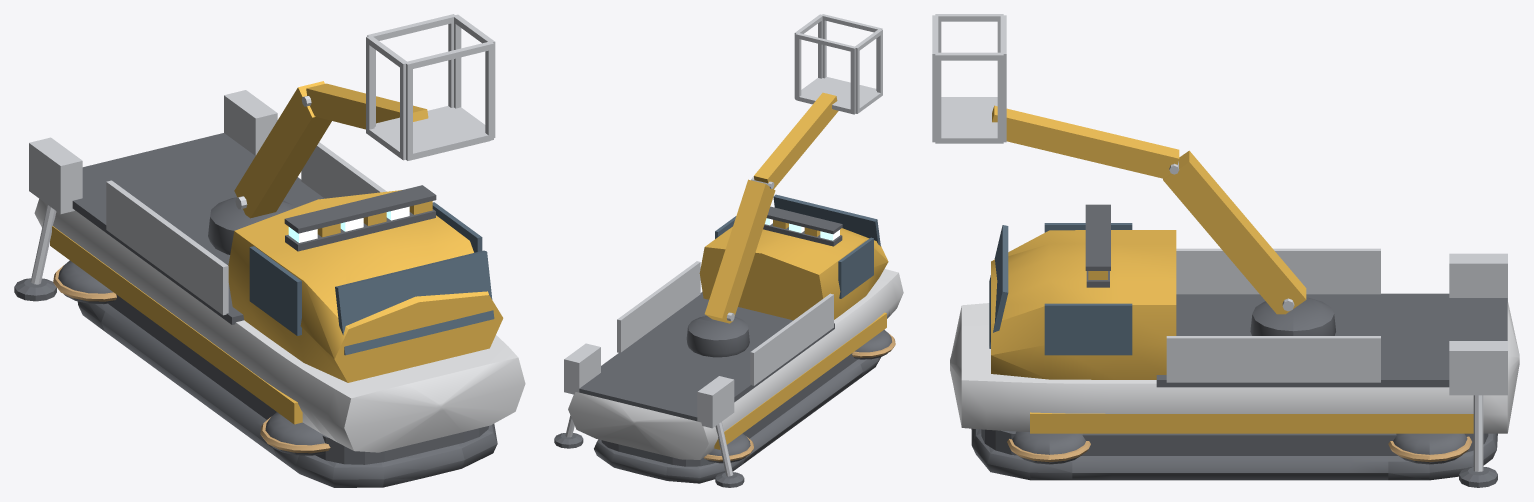
The model's file is hover-transit-and-antigrav-fleet-maintenance-rig-lift--e6c9df7f__17096.glb.
3 renders of one model, left to right at view 1: azimuth 30°, elevation 25°; view 2: azimuth 150°, elevation 25°; view 3: azimuth 270°, elevation 25°, orthographic. The views are drawn at different scales.
Visible parts, largest first — view 1: maintenance-rig-lift-arm, basket, boom-lower, boom-upper; view 2: maintenance-rig-lift-arm, basket, boom-lower, boom-upper; view 3: maintenance-rig-lift-arm, boom-lower, basket, boom-upper.
Part boxes in pixels (x1=…): maintenance-rig-lift-arm: x1=14, y1=90, x2=525, y2=487; basket: x1=366, y1=14, x2=495, y2=160; boom-lower: x1=234, y1=81, x2=331, y2=218; boom-upper: x1=306, y1=83, x2=428, y2=129; maintenance-rig-lift-arm: x1=554, y1=194, x2=903, y2=487; basket: x1=794, y1=14, x2=882, y2=114; boom-lower: x1=704, y1=179, x2=775, y2=323; boom-upper: x1=753, y1=92, x2=838, y2=188; maintenance-rig-lift-arm: x1=950, y1=204, x2=1519, y2=487; boom-lower: x1=1163, y1=150, x2=1306, y2=314; basket: x1=932, y1=14, x2=1006, y2=143; boom-upper: x1=992, y1=105, x2=1179, y2=178.
Bounding box in the file's own units: 2.96 × 4.62 × 6.02.
